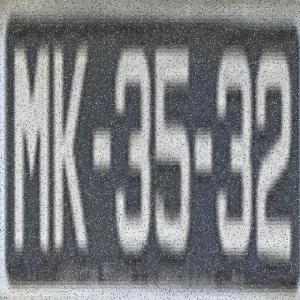Plate: (8, 20, 296, 288)
